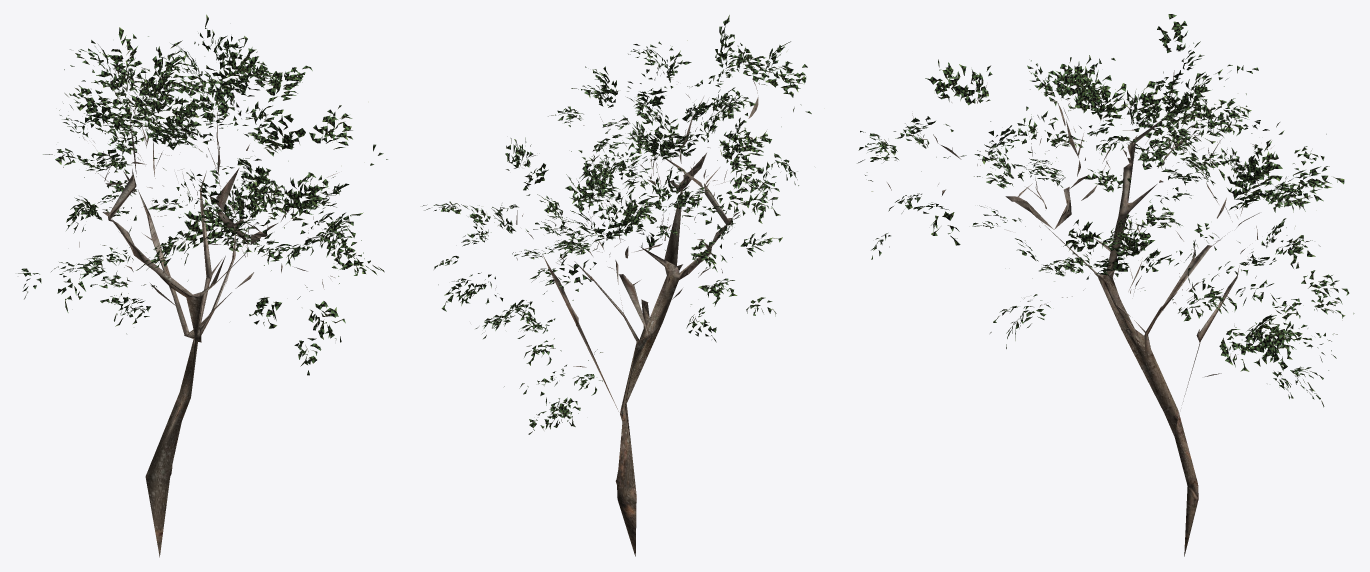
Rendered from tree.glb.
3 views of the same model, side by side, from view 1: azimuth 30°, elevation 25°; view 2: azimuth 150°, elevation 25°; view 3: azimuth 270°, elevation 25° (orthographic). The views are drawn at different scales.
Parts seen in each view (by area): view 1: tree_small_02_LOD0; view 2: tree_small_02_LOD0; view 3: tree_small_02_LOD0.
Part boxes in pixels (x1=…): tree_small_02_LOD0: x1=18, y1=14, x2=387, y2=557; tree_small_02_LOD0: x1=422, y1=15, x2=811, y2=556; tree_small_02_LOD0: x1=857, y1=14, x2=1354, y2=556.
Bounding box in the file's own units: 2.87 × 4.53 × 4.06.
3 materials, 3 textured.
